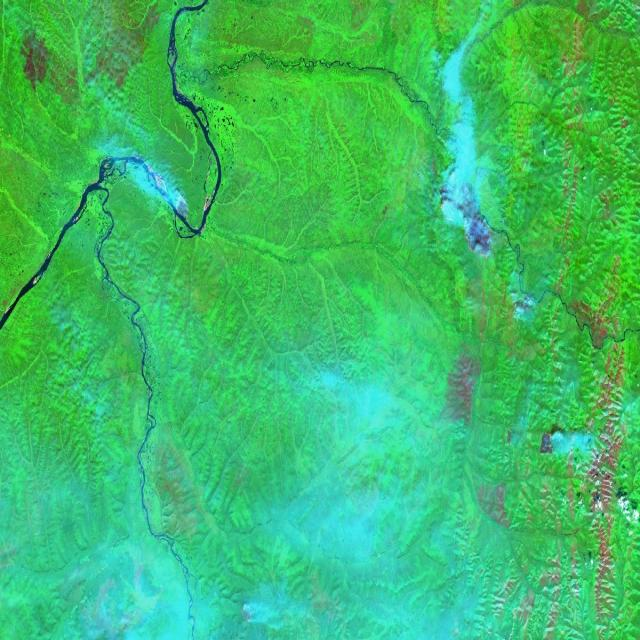fire: (435, 171, 501, 275), (533, 422, 560, 461)
